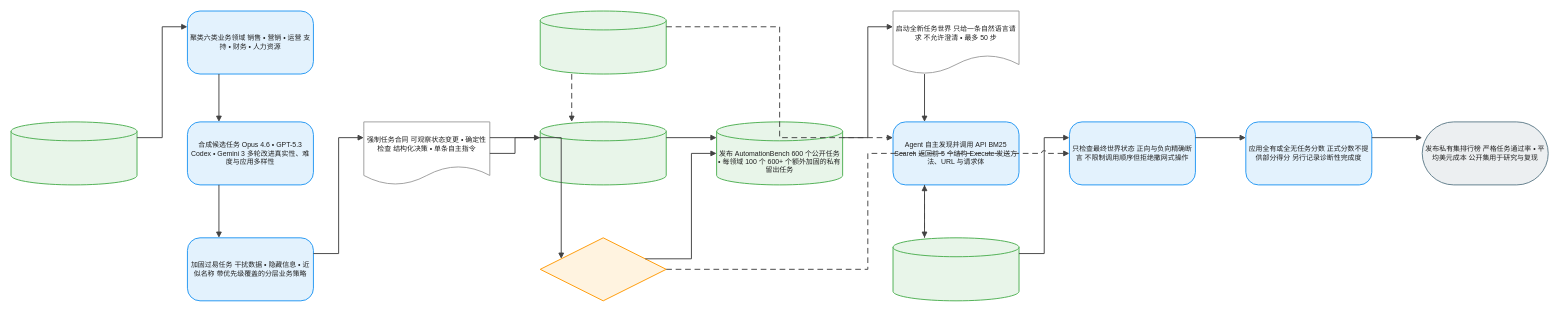
Some shapes in this 1560 by 312 pixel diagram are drawn without their labels. The shapes that lost their labels are listed below. From the top down, each one's centre as x and y in pixels, then its label:
At point 602,42: "复刻公开 API 形态 47 个应用约 500 个端点 分页 • 必填字段 • 常见 4xx 错误".
At point 73,153: "提取真实工作流模式 来自 Zapier Agent 负反馈的流程形态 不使用 PII 或客户机密数据".
At point 602,153: "构建模拟应用世界 Pydantic 模型作为状态真值 虚构 CRM、邮箱、日历等数据".
At point 602,269: "验证可解性与奖励 提示模式 • 抽样检查 • 重复审计 用强化学习发现奖励投机策略".
At point 955,269: "协调跨应用工作流 读取策略与干扰记录 持久化创建、更新、消息和事件".
